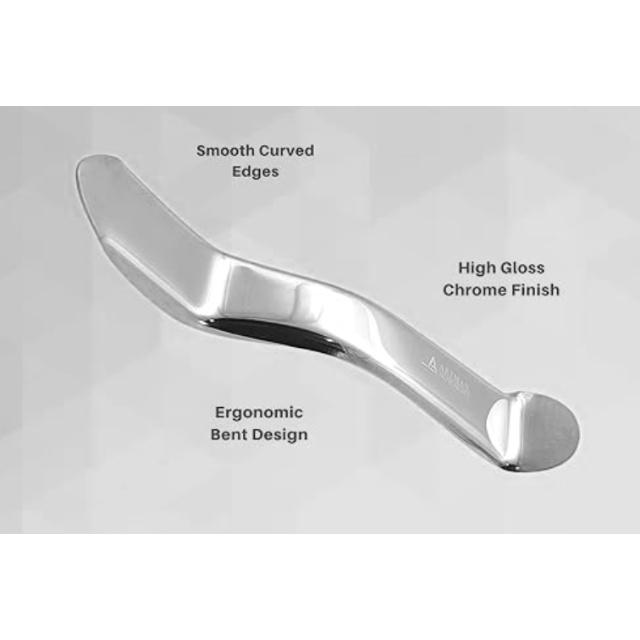separador: (72, 154, 583, 473)
